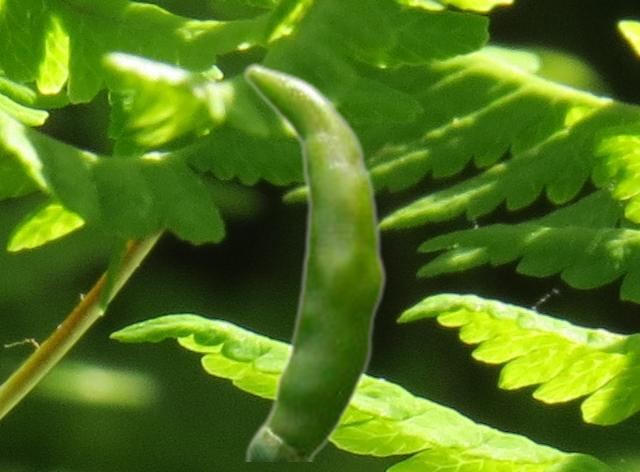green_chili: (241, 61, 387, 460)
